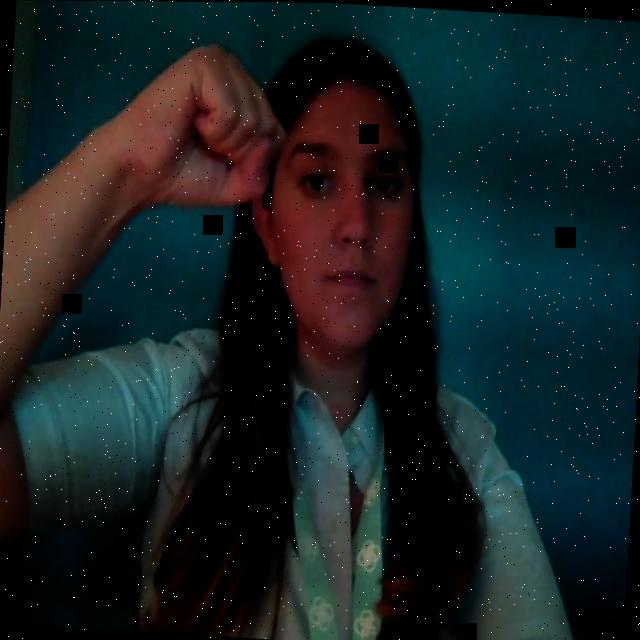Rock: (116, 47, 293, 227)
